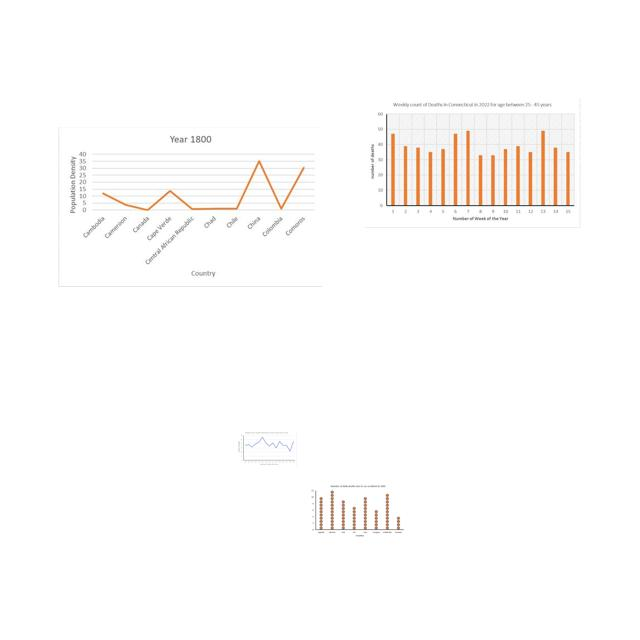Graph: (58, 127, 322, 287), (365, 98, 581, 228), (310, 483, 404, 539), (237, 431, 297, 467)
